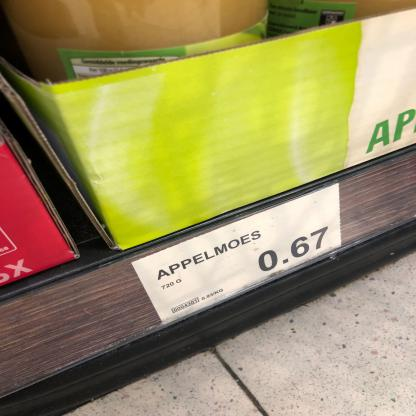prtg: (133, 184, 342, 325)
